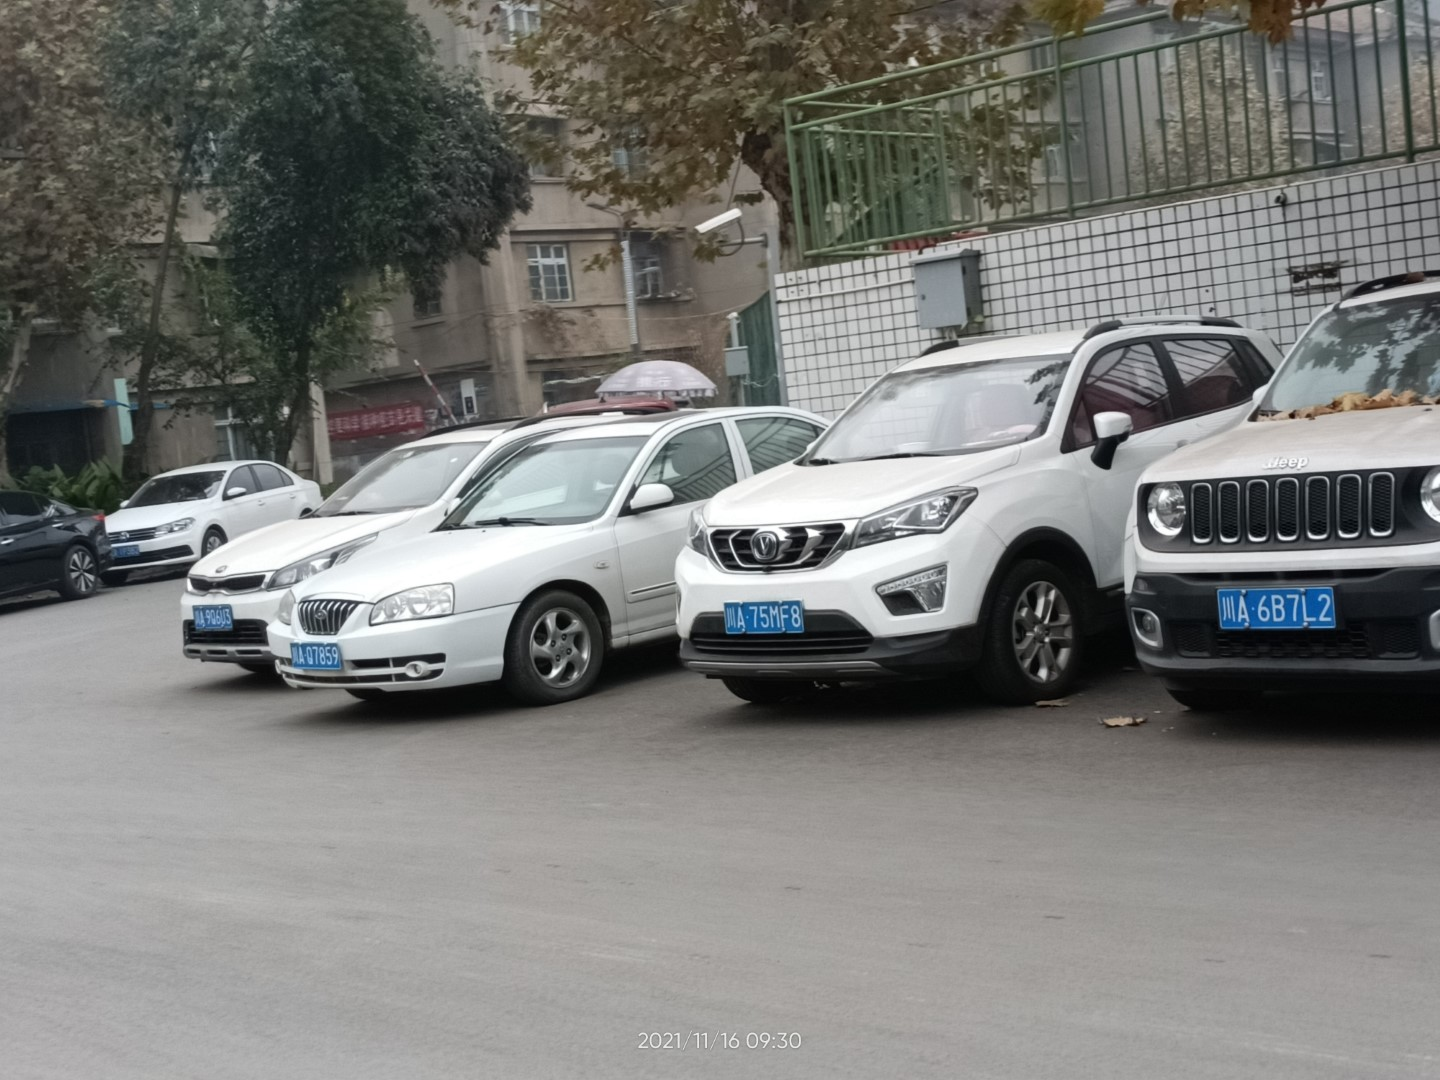plate: (1215, 587, 1336, 628), (723, 599, 803, 633), (289, 642, 341, 668), (192, 605, 232, 631)
